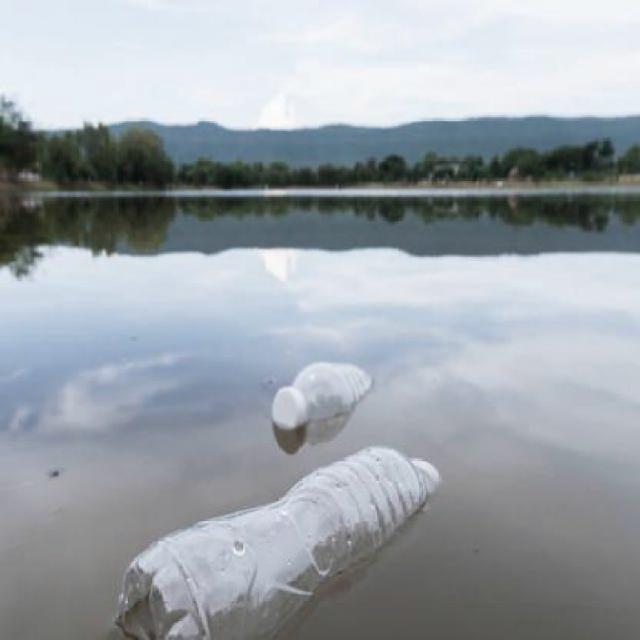Plastic: (113, 442, 447, 640), (261, 363, 375, 431)
